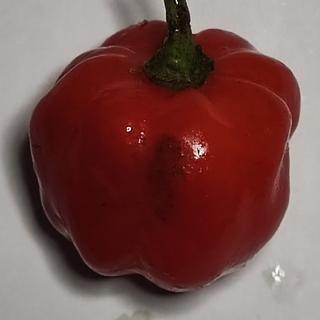Grade-B: (21, 14, 305, 296)
